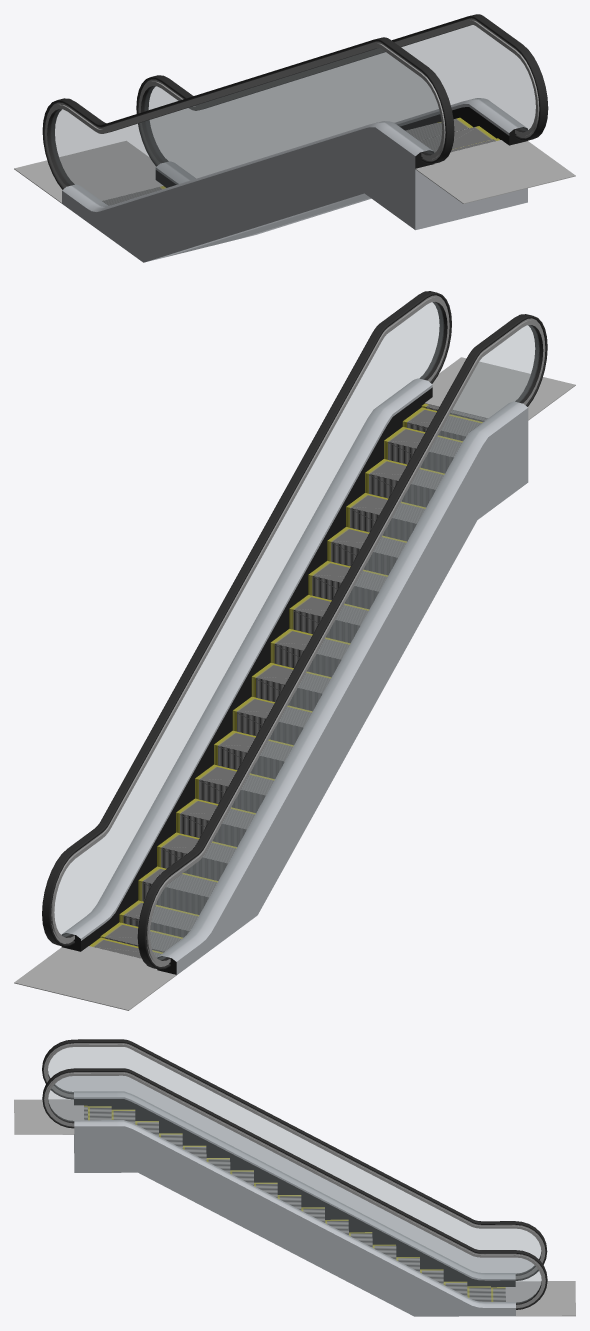
File: Escalator-180.glb
3 views of the same model, one above another, from view 1: azimuth 30°, elevation 25°; view 2: azimuth 150°, elevation 25°; view 3: azimuth 270°, elevation 25° (orthographic). The views are drawn at different scales.
Visible parts, largest first — view 1: Object_3, Object_7, Object_8, Object_5, Object_4, Object_6, Object_2; view 2: Object_3, Object_7, Object_6, Object_5, Object_8, Object_4, Object_2; view 3: Object_3, Object_7, Object_4, Object_5, Object_2, Object_6, Object_8.
Boxes of the visible parts, bbox=[...] form: Object_3: bbox=[51, 25, 535, 206]; Object_7: bbox=[62, 98, 527, 262]; Object_8: bbox=[14, 140, 575, 203]; Object_5: bbox=[42, 14, 548, 189]; Object_4: bbox=[45, 18, 539, 187]; Object_6: bbox=[102, 117, 499, 205]; Object_2: bbox=[155, 107, 527, 187]; Object_3: bbox=[54, 302, 539, 959]; Object_7: bbox=[63, 378, 528, 974]; Object_6: bbox=[89, 403, 486, 958]; Object_5: bbox=[42, 291, 547, 969]; Object_8: bbox=[14, 357, 575, 1010]; Object_4: bbox=[51, 295, 545, 966]; Object_2: bbox=[61, 387, 432, 975]; Object_3: bbox=[48, 1047, 541, 1303]; Object_7: bbox=[74, 1091, 515, 1316]; Object_4: bbox=[43, 1043, 545, 1308]; Object_5: bbox=[42, 1039, 547, 1309]; Object_2: bbox=[74, 1099, 515, 1287]; Object_6: bbox=[84, 1105, 505, 1301]; Object_8: bbox=[14, 1099, 575, 1316].
Size of the model in its own units: 20.33 by 64.53 by 134.
7 materials, 1 textured.
